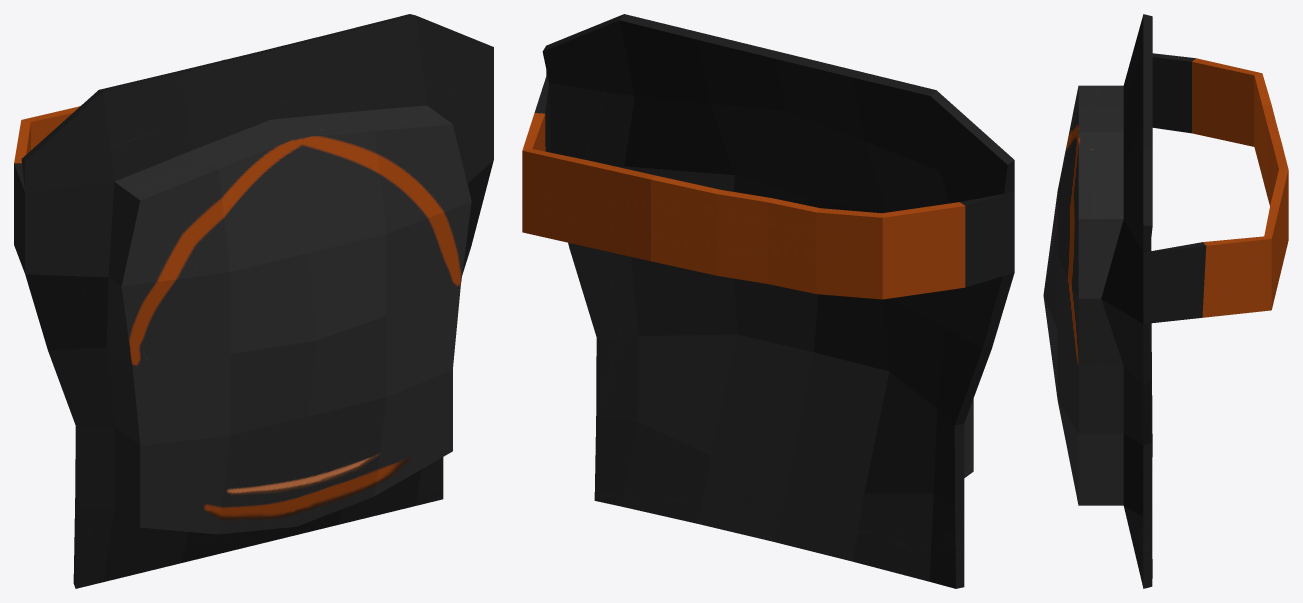
The model's file is rodilleras.fbx.
3 views of the same model, side by side, from view 1: azimuth 30°, elevation 25°; view 2: azimuth 150°, elevation 25°; view 3: azimuth 270°, elevation 25° (orthographic). The views are drawn at different scales.
Parts seen in each view (by area): view 1: Cube; view 2: Cube; view 3: Cube.
Boxes of the visible parts, x1,y1,x2,y2 form: Cube: (14,14,493,588); Cube: (522,14,1014,588); Cube: (1043,14,1288,588).
Bounding box in the file's own units: 150 × 150 × 77.54.
Materials: 1 (1 with a texture image).
